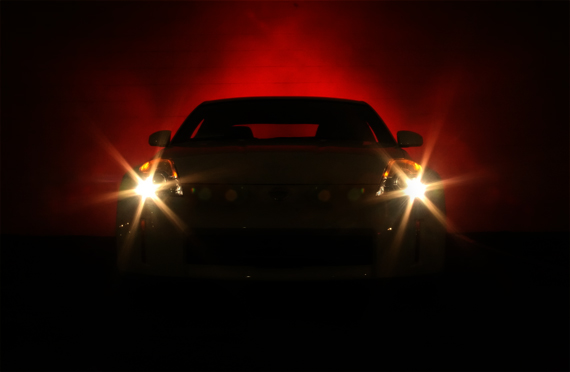car: (112, 89, 453, 306)
